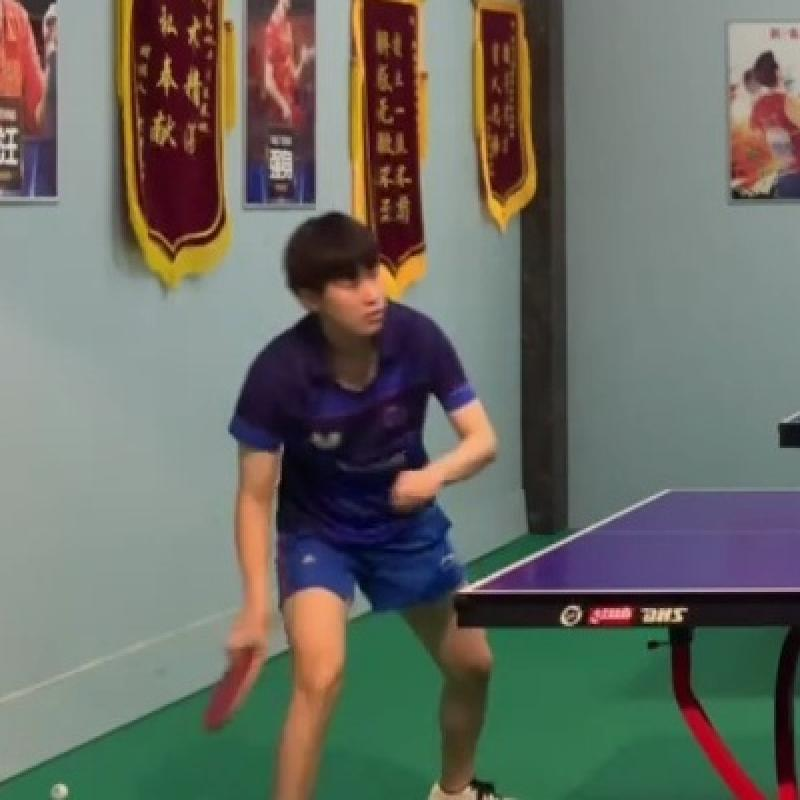bats: (188, 637, 295, 741)
